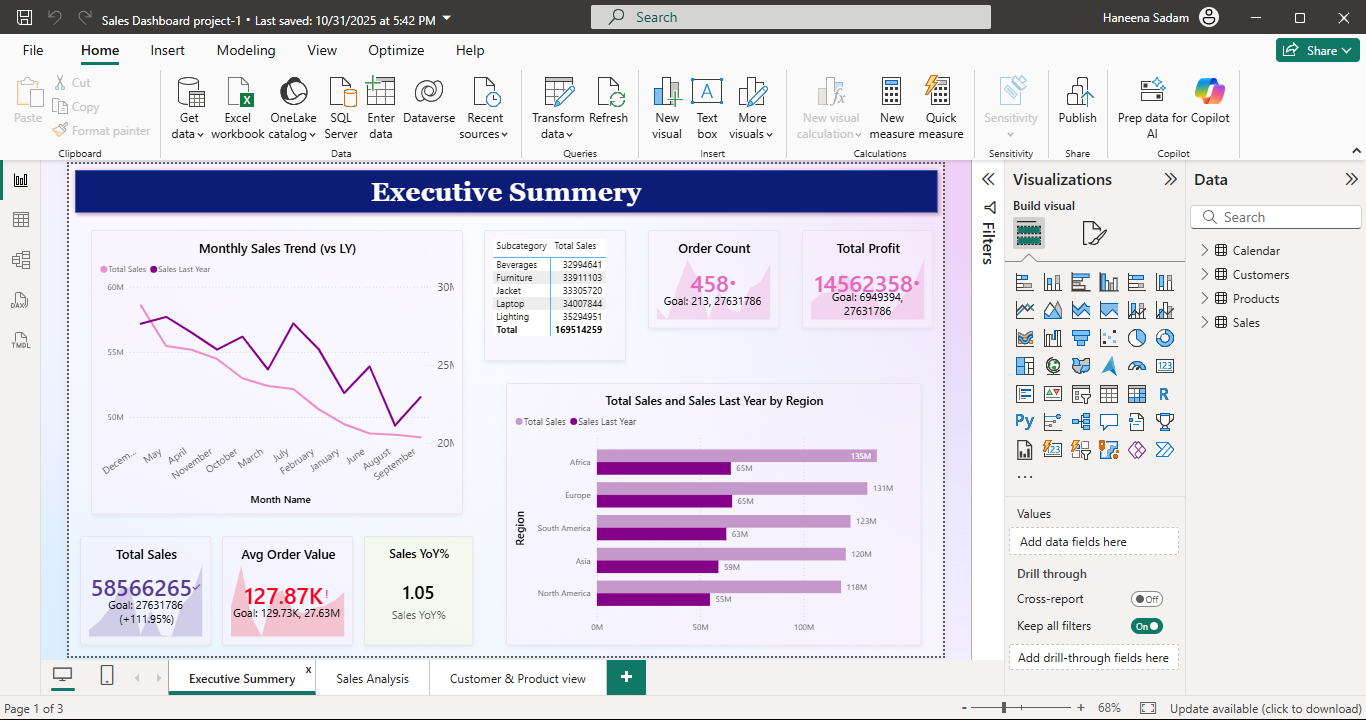

This screenshot's page, from the dashboard's own definition file:
{"tool":"powerbi","page":{"name":"Executive Summery","canvas":[1280,720],"ordinal":0},"visuals":[{"type":"shape","box":[0,0,1280,80],"z":0},{"type":"kpi","title":"Total Sales","fields":{"Indicator":["Sales.Total Sales"],"TrendLine":["Calendar.Month"],"Goal":["Sales.Sales Last Year"]},"box":[16,544,192,160],"z":1000},{"type":"kpi","title":"Order Count","fields":{"TrendLine":["Calendar.Month"],"Goal":["Sales.Order Count LY","Sales.Sales Last Year"],"Indicator":["Sales.Order Count"]},"box":[848,96,192,144],"z":2000},{"type":"kpi","title":"Total Profit","fields":{"TrendLine":["Calendar.Month"],"Goal":["Sales.Profit Last Year","Sales.Sales Last Year"],"Indicator":["Sales.Total Profit"]},"box":[1072,96,192,144],"z":3000},{"type":"kpi","title":"Avg Order Value","fields":{"TrendLine":["Calendar.Month"],"Goal":["Sales.Avg Order Value LY","Sales.Sales Last Year"],"Indicator":["Sales.Avg Order Value"]},"box":[224,544,192,160],"z":4000},{"type":"lineChart","title":"Monthly Sales Trend (vs LY)","fields":{"Category":["Calendar.Month Name"],"Y":["Sales.Total Sales"],"Y2":["Sales.Sales Last Year"]},"box":[32,96,544,416],"z":5000},{"type":"clusteredBarChart","fields":{"Category":["Sales.Region"],"Y":["Sales.Total Sales","Sales.Sales Last Year"]},"box":[640,320,608,384],"z":6000},{"type":"card","title":"Sales YoY%","fields":{"Values":["Sales.Sales YoY%"]},"box":[432,544,160,160],"z":7000},{"type":"pivotTable","fields":{"Rows":["Products.Subcategory"],"Values":["Sales.Total Sales"]},"box":[608,96,208,192],"z":8000}]}

Visuals, with their boxes on the page's 1280x720 design canvas (x1, y1, x2, y2). These are canvas units, not pixel positions in the 1366x720 screenshot, which may show the page scaled, cropped or inside an application window:
shape: Rect(0, 0, 1280, 80)
"Total Sales" kpi: Rect(16, 544, 208, 704)
"Order Count" kpi: Rect(848, 96, 1040, 240)
"Total Profit" kpi: Rect(1072, 96, 1264, 240)
"Avg Order Value" kpi: Rect(224, 544, 416, 704)
"Monthly Sales Trend (vs LY)" lineChart: Rect(32, 96, 576, 512)
clusteredBarChart - Sales.Region x Sales.Total Sales: Rect(640, 320, 1248, 704)
"Sales YoY%" card: Rect(432, 544, 592, 704)
pivotTable - Products.Subcategory x Sales.Total Sales: Rect(608, 96, 816, 288)
